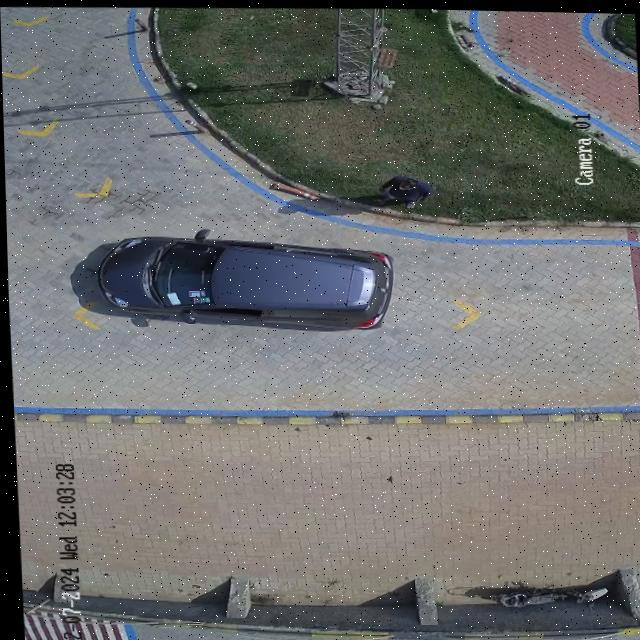car: (94, 234, 394, 327)
